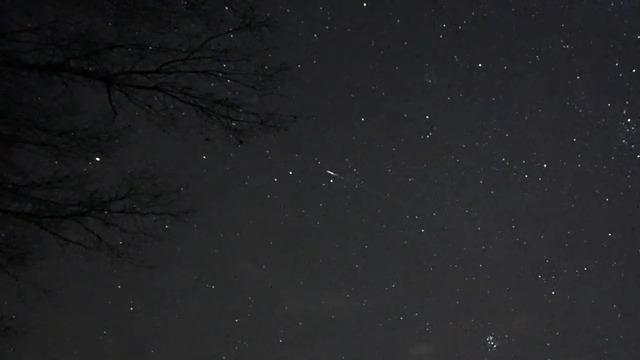meteorite: (322, 167, 405, 197)
